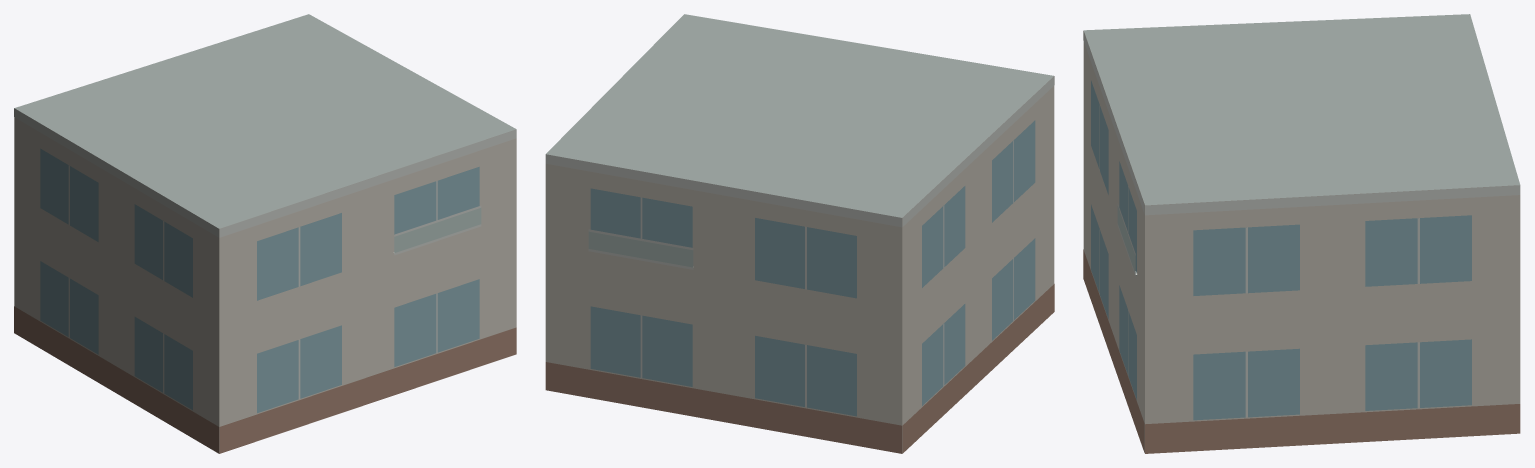
File: survey-upis-32720388.glb
The picture shows the model from 3 angles, left to right: view 1: azimuth 30°, elevation 25°; view 2: azimuth 150°, elevation 25°; view 3: azimuth 270°, elevation 25°; orthographic projection. The views are drawn at different scales.
Parts seen in each view (by area): view 1: survey-upis-32720388.tmp; view 2: survey-upis-32720388.tmp; view 3: survey-upis-32720388.tmp.
Boxes of the visible parts, x1=… form: survey-upis-32720388.tmp: x1=14, y1=14, x2=516, y2=453; survey-upis-32720388.tmp: x1=545, y1=14, x2=1054, y2=453; survey-upis-32720388.tmp: x1=1083, y1=14, x2=1520, y2=453.
Bounding box in the file's own units: 10.09 × 6.1 × 9.73.
